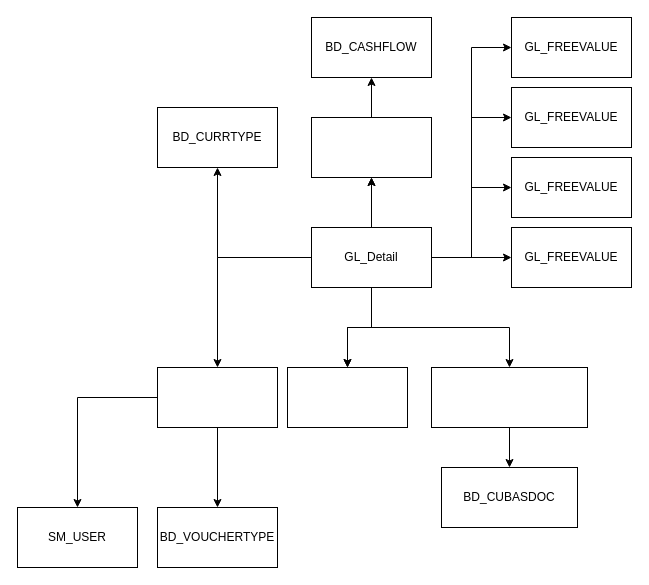
Some shapes in this 649 by 585 pixel diagram are drawn without their labels. The shapes that lost their labels are listed below. From the top down, each one's box as (x1, y1, x2, y2) in pixels, then its label:
(310, 116, 432, 178): GL_CASHFLOWCASE
(156, 366, 278, 428): GL_Voucher
(286, 366, 408, 428): BD_ACCSUBJ
(430, 366, 588, 428): GL_FIXTMPFREEVALUE
